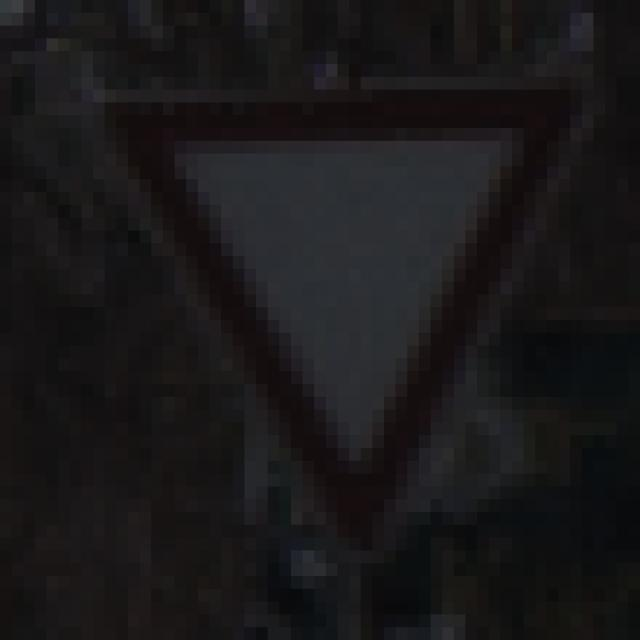Give Way: (71, 65, 583, 577)
